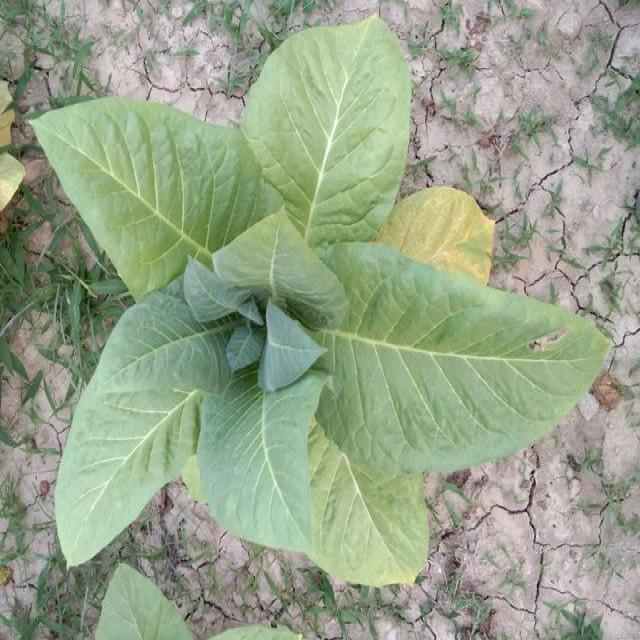crop: (38, 26, 592, 573)
